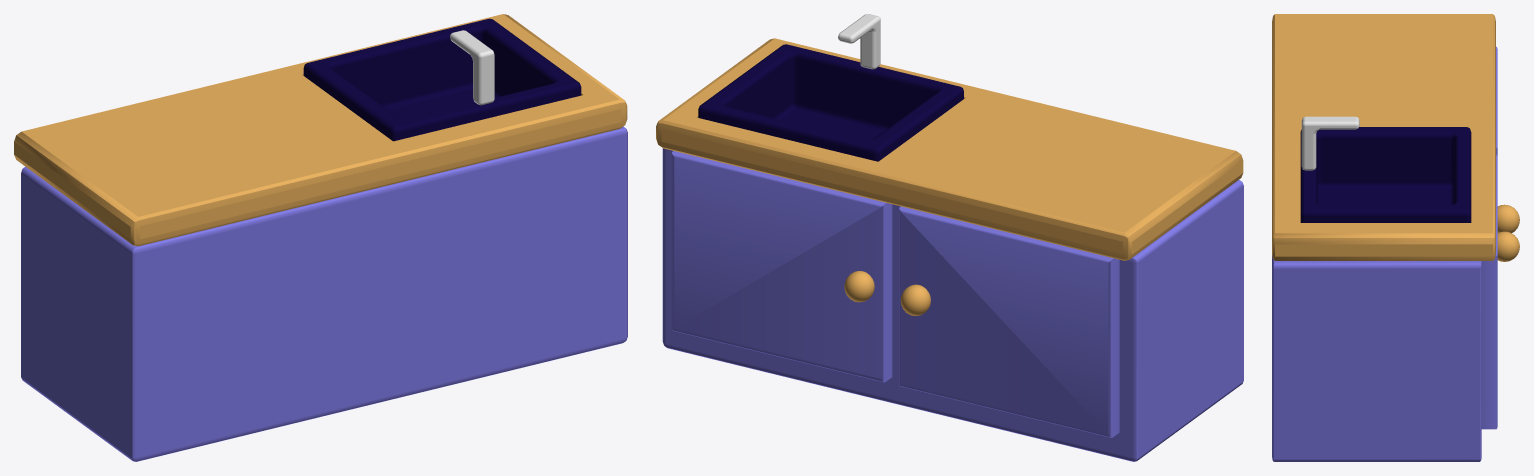
File: sink.fbx
3 renders of one model, left to right at view 1: azimuth 30°, elevation 25°; view 2: azimuth 150°, elevation 25°; view 3: azimuth 270°, elevation 25°, orthographic. The views are drawn at different scales.
Parts seen in each view (by area): view 1: Plane.002, Plane.003, Cube, Plane.006; view 2: Plane.004, Plane.003, Plane.002, Cube, Sphere, Plane.006; view 3: Plane.002, Plane.003, Cube, Plane.004, Plane.006, Sphere.
Boxes of the visible parts, left/top/right/bottom form: Plane.002: left=21, top=126, right=627, bottom=461; Plane.003: left=14, top=14, right=627, bottom=246; Cube: left=303, top=18, right=581, bottom=141; Plane.006: left=450, top=30, right=494, bottom=105; Plane.004: left=672, top=151, right=1119, bottom=437; Plane.003: left=656, top=38, right=1243, bottom=260; Plane.002: left=662, top=148, right=1243, bottom=461; Cube: left=698, top=44, right=963, bottom=161; Sphere: left=844, top=271, right=930, bottom=315; Plane.006: left=838, top=14, right=880, bottom=69; Plane.002: left=1272, top=254, right=1481, bottom=461; Plane.003: left=1272, top=14, right=1495, bottom=260; Cube: left=1300, top=127, right=1471, bottom=222; Plane.004: left=1481, top=46, right=1497, bottom=429; Plane.006: left=1301, top=116, right=1359, bottom=170; Sphere: left=1497, top=204, right=1519, bottom=261.
Bounding box in the file's own units: 492 × 293 × 228.
